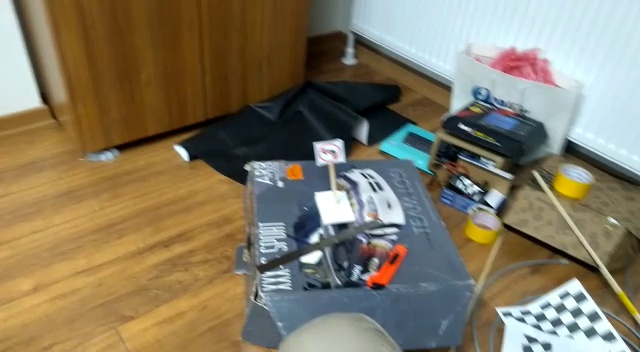sola_donulmez: (314, 138, 342, 164)
